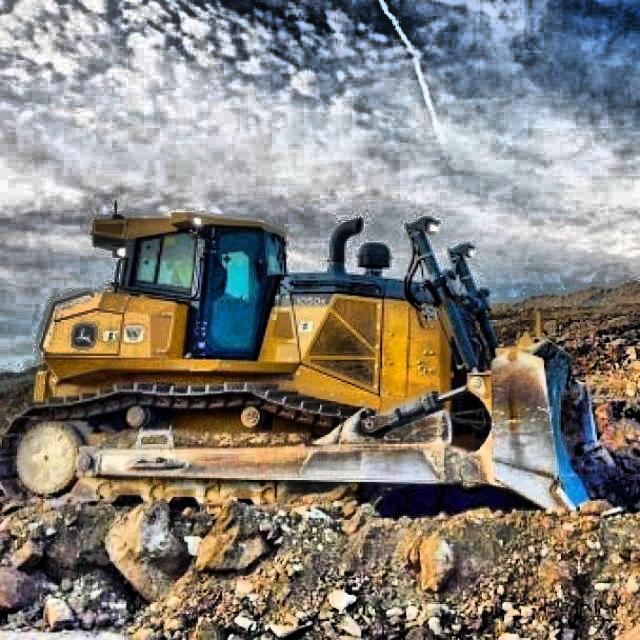bull_dozer/loader/grader: (0, 195, 640, 513)
person: (170, 250, 196, 290)
